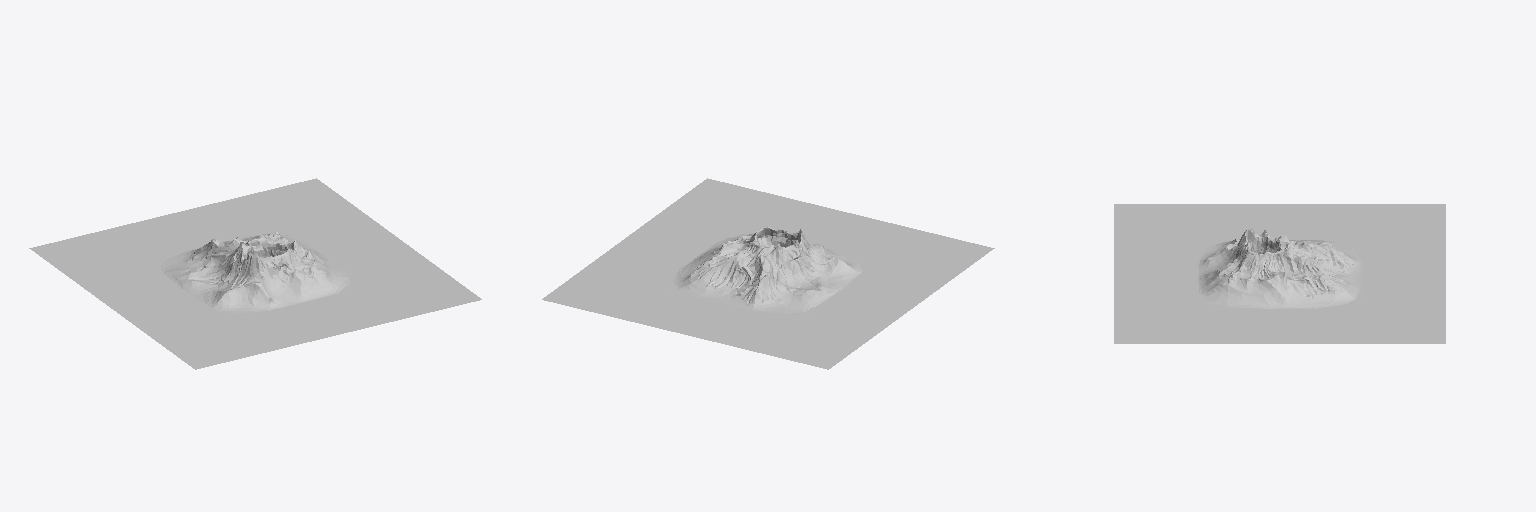
File: volcano.obj
3 views of the same model, side by side, from view 1: azimuth 30°, elevation 25°; view 2: azimuth 150°, elevation 25°; view 3: azimuth 270°, elevation 25° (orthographic).
Visible parts, largest first — view 1: Volcano_Volcano_base; view 2: Volcano_Volcano_base; view 3: Volcano_Volcano_base.
Boxes of the visible parts, <box> form: Volcano_Volcano_base: <box>29,178,481,369</box>; Volcano_Volcano_base: <box>542,178,994,369</box>; Volcano_Volcano_base: <box>1114,204,1445,343</box>.
Size of the model in its own units: 30 by 3.61 by 30.